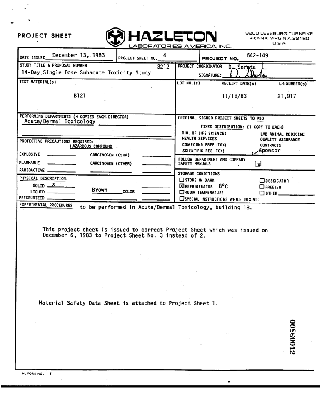checkbox: (254, 160, 262, 167), (258, 183, 265, 190), (258, 178, 265, 184), (258, 190, 265, 196), (178, 196, 185, 202), (178, 189, 185, 195), (178, 183, 185, 189), (178, 177, 185, 183)
textbox: (15, 77, 177, 116), (173, 78, 322, 116), (16, 60, 177, 81)
textline: (222, 67, 313, 79), (238, 51, 313, 62), (45, 52, 114, 61), (98, 119, 173, 127), (20, 129, 95, 137), (20, 119, 96, 126), (98, 130, 173, 137), (157, 51, 198, 62), (91, 193, 137, 201), (90, 166, 132, 173), (91, 187, 123, 194), (277, 191, 315, 196), (46, 159, 77, 165), (46, 167, 77, 173), (141, 151, 172, 157), (141, 160, 172, 166), (46, 182, 77, 188), (46, 188, 77, 194), (46, 194, 77, 200), (140, 195, 171, 201), (140, 189, 171, 195), (140, 183, 171, 189), (47, 151, 77, 157), (141, 168, 172, 173)
